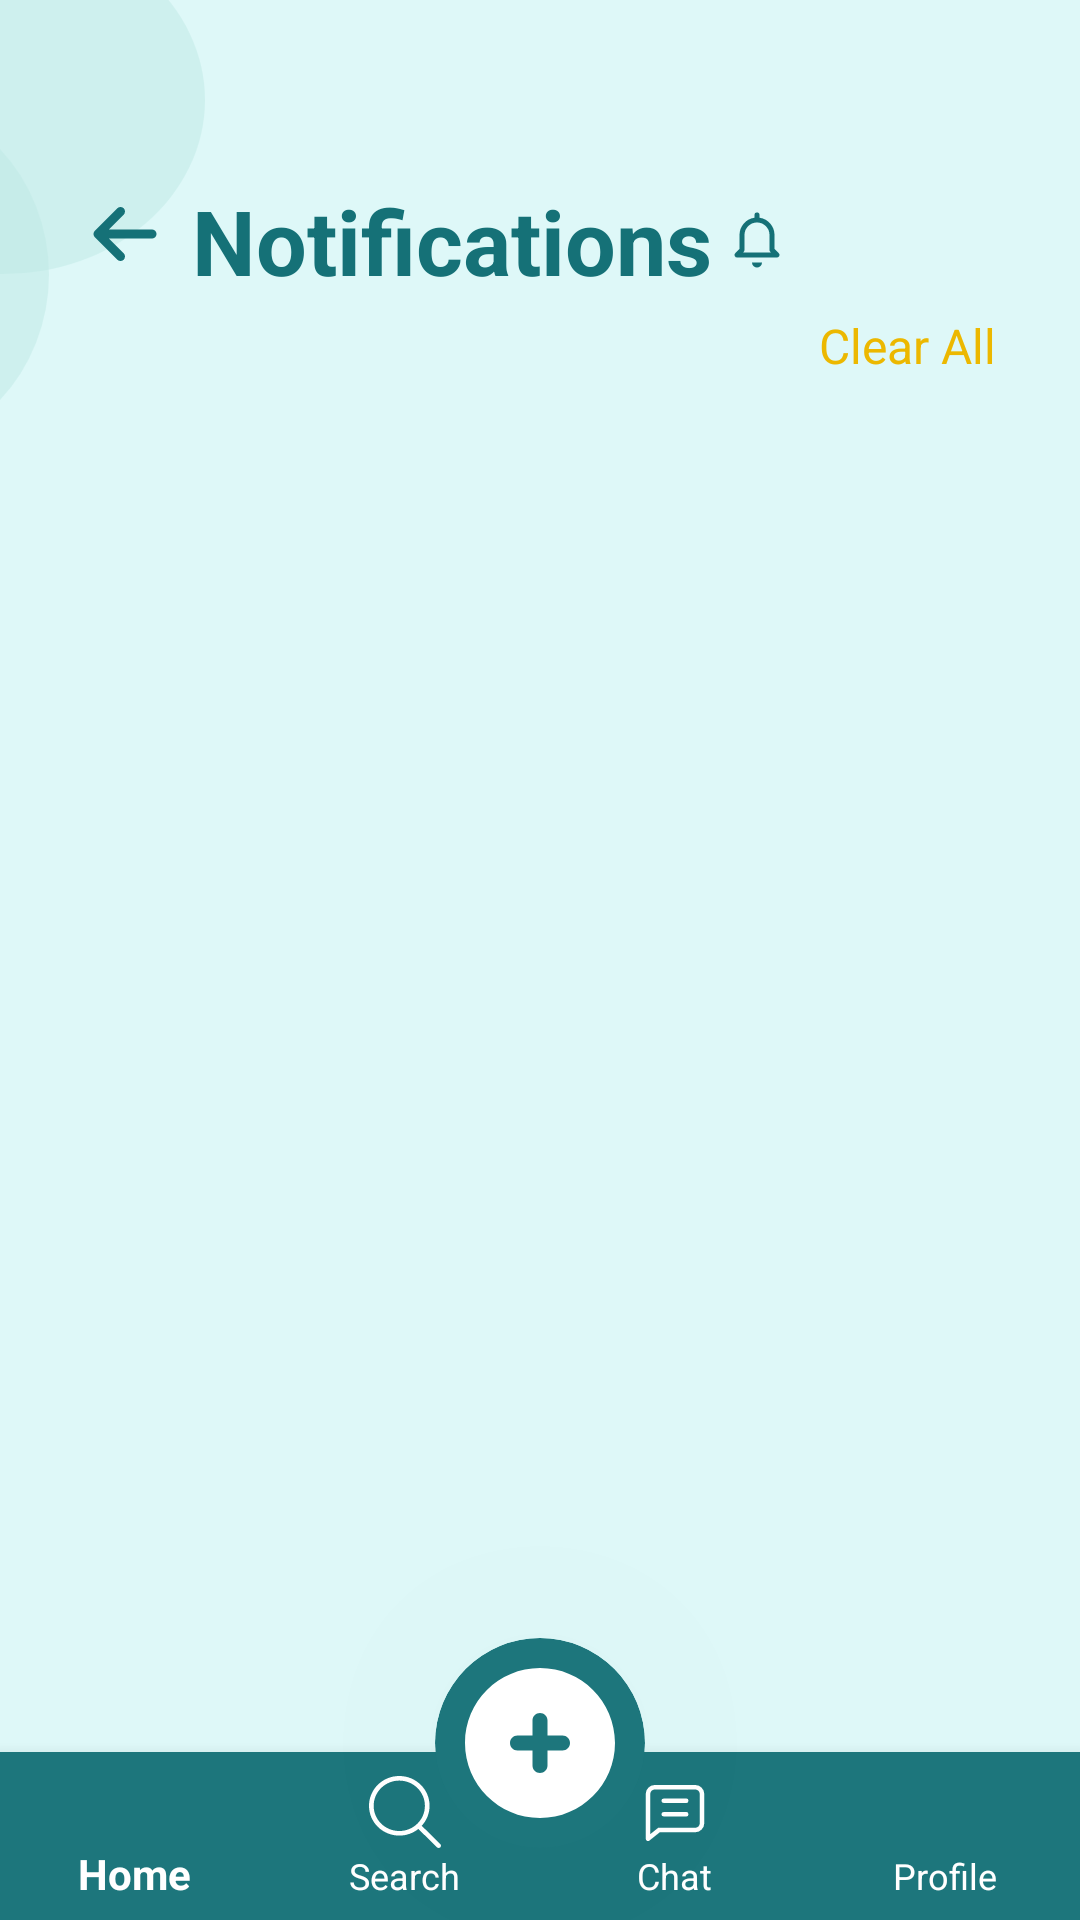

Point at icon controls on the screen. Image size 1080*1920, points as point (x, y).
leftarrow: point (125, 234)
plussvg: point (540, 1743)
